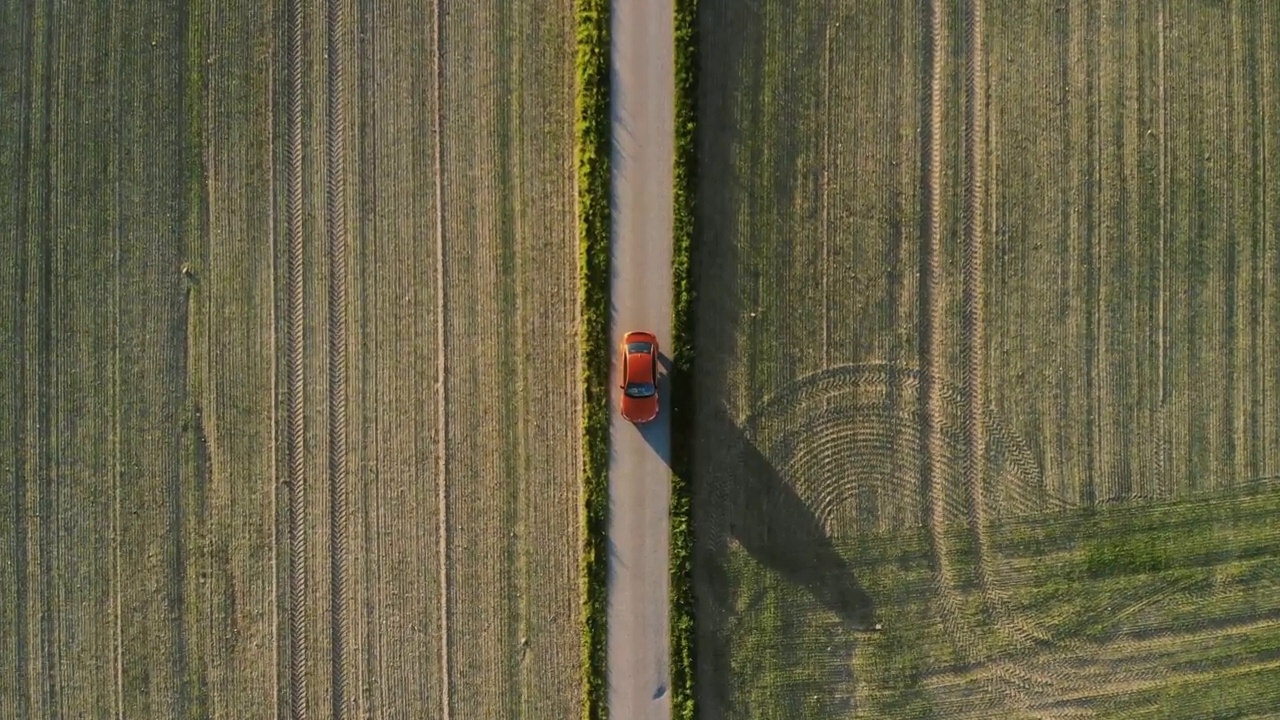araba: (617, 332, 659, 428)
